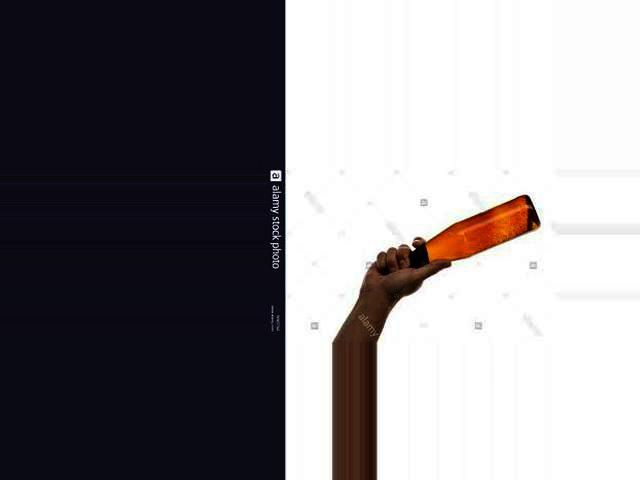beer: (381, 195, 541, 273)
